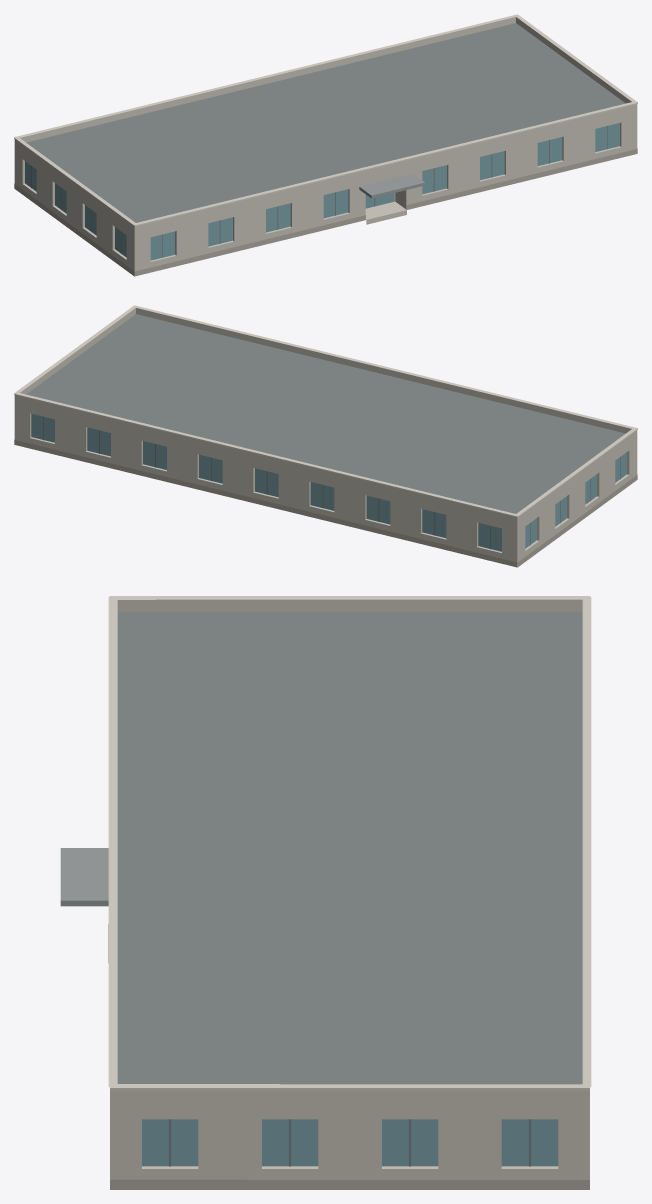
The picture shows the model from 3 angles, top to bottom: view 1: azimuth 30°, elevation 25°; view 2: azimuth 150°, elevation 25°; view 3: azimuth 270°, elevation 25°; orthographic projection. The views are drawn at different scales.
Visible parts, largest first — view 1: aux801815069__roof, aux801815069__wall, aux801815069__parapet, aux801815069__glass, aux801815069__trim, aux801815069__base, aux801815069__canopy, aux801815069__entranceThreshold_0, aux801815069__frame; view 2: aux801815069__roof, aux801815069__wall, aux801815069__parapet, aux801815069__glass, aux801815069__trim, aux801815069__base, aux801815069__frame; view 3: aux801815069__roof, aux801815069__wall, aux801815069__trim, aux801815069__parapet, aux801815069__glass, aux801815069__base, aux801815069__canopy.
Part boxes in pixels (box(x1,y1,x2,y2)): aux801815069__roof: box(26, 23, 625, 222); aux801815069__wall: box(14, 109, 637, 276); aux801815069__parapet: box(14, 17, 637, 231); aux801815069__glass: box(25, 123, 619, 260); aux801815069__trim: box(14, 14, 637, 226); aux801815069__base: box(14, 148, 637, 276); aux801815069__canopy: box(359, 173, 425, 198); aux801815069__entranceThreshold_0: box(365, 201, 406, 224); aux801815069__frame: box(31, 126, 607, 257); aux801815069__roof: box(26, 314, 625, 567); aux801815069__wall: box(14, 400, 637, 566); aux801815069__parapet: box(14, 308, 637, 522); aux801815069__glass: box(31, 413, 626, 551); aux801815069__trim: box(14, 305, 637, 517); aux801815069__base: box(14, 439, 637, 567); aux801815069__frame: box(43, 416, 620, 549); aux801815069__roof: box(117, 612, 582, 1084); aux801815069__wall: box(110, 1099, 589, 1179); aux801815069__trim: box(108, 596, 591, 1090); aux801815069__parapet: box(110, 599, 589, 1099); aux801815069__glass: box(142, 1119, 558, 1166); aux801815069__base: box(110, 1179, 589, 1189); aux801815069__canopy: box(60, 848, 108, 906).
Size of the model in its own units: 46.96 by 4.95 by 21.42.
